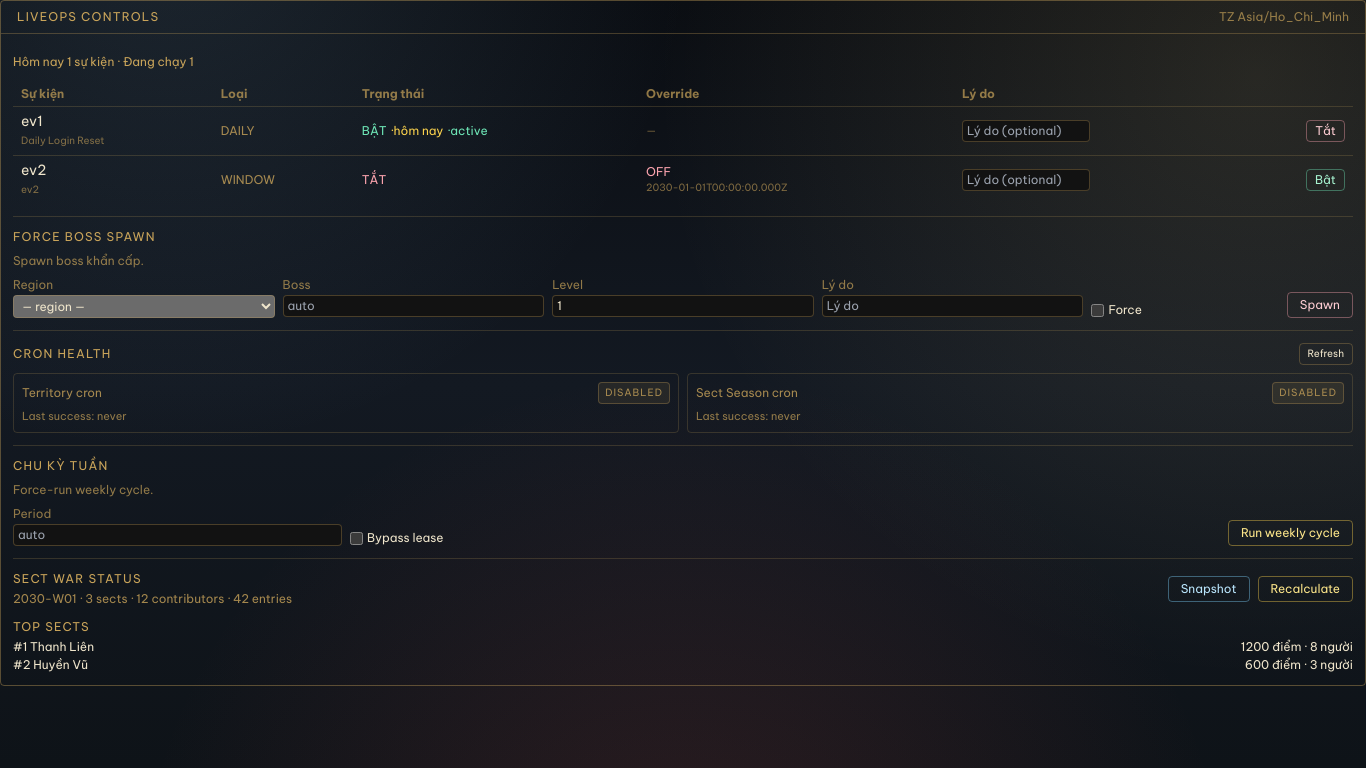
Test: AdminLiveOpsPanel › toggle event success → adminLiveOpsToggle gọi đúng, status refresh, label flip
The image size is (1366, 768).
Step 1. Click the button with test id "admin-liveops-toggle" showing "Tắt" → (1326, 131), box [1306,120,1345,142]
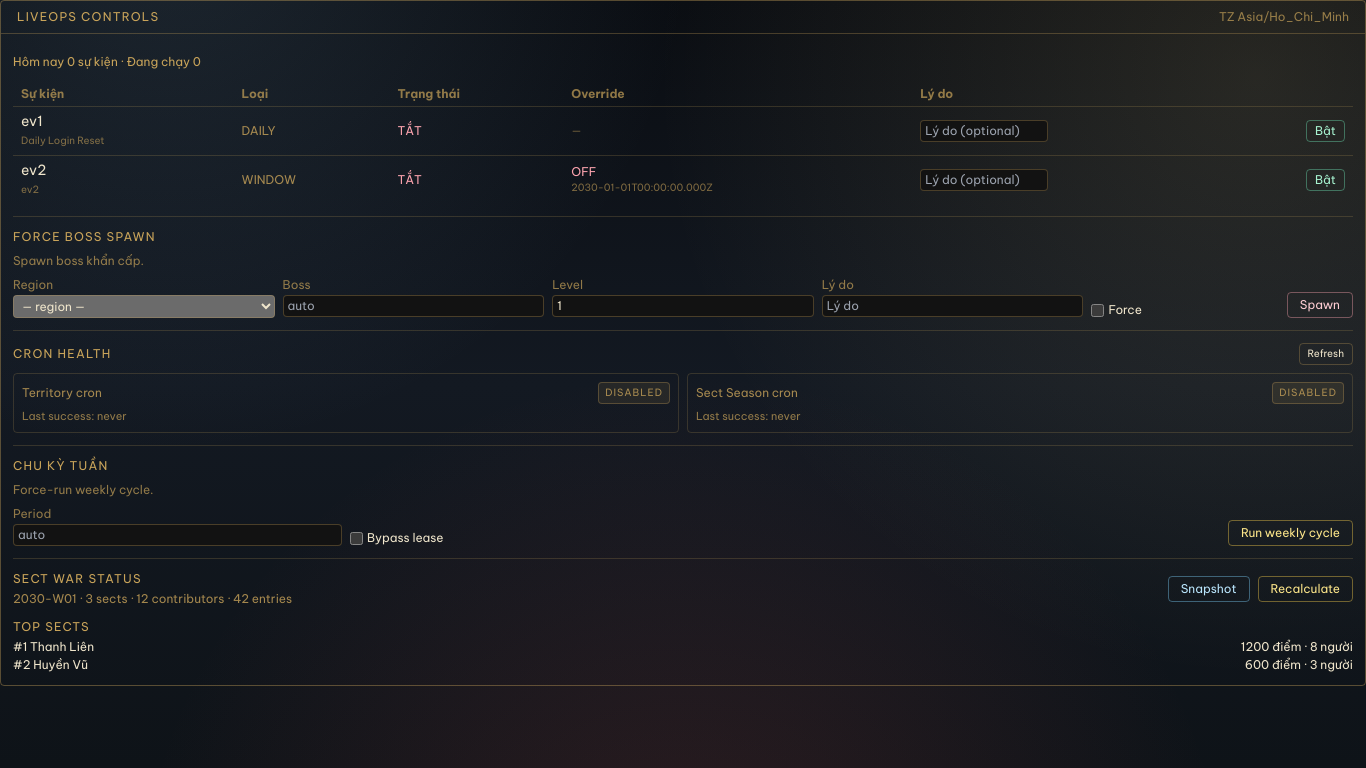
Now the button with test id "admin-liveops-toggle" in the row of "ev1" reads "Bật", box [1306,120,1345,142]
